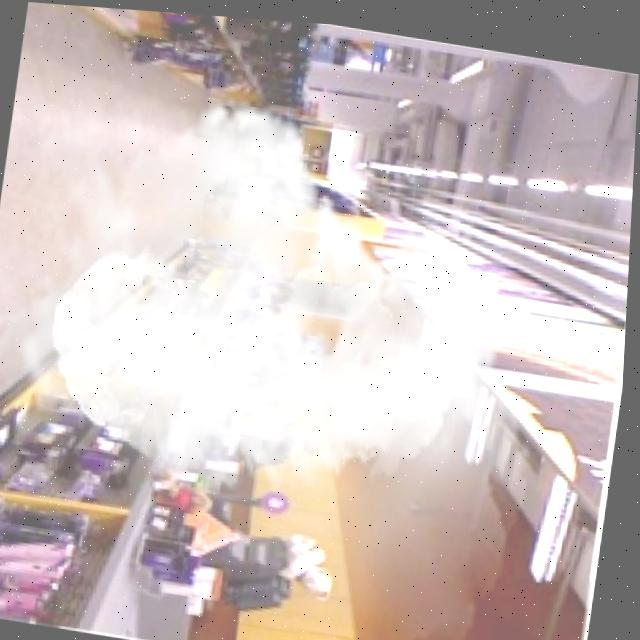Smoke: (0, 45, 574, 640)
